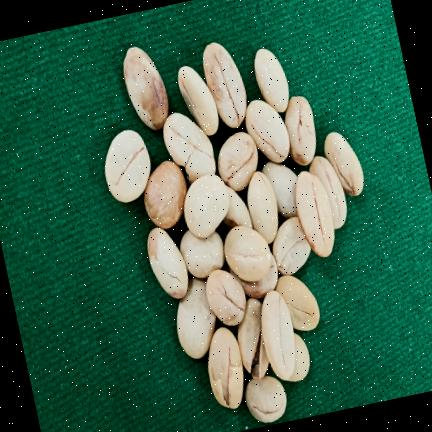parchment: (203, 42, 247, 127), (124, 47, 169, 130), (164, 113, 216, 183), (296, 171, 335, 257), (105, 130, 151, 202), (177, 277, 216, 358), (261, 290, 296, 379), (144, 161, 187, 229), (208, 328, 244, 409), (148, 227, 188, 299), (245, 100, 290, 163), (178, 66, 219, 135), (309, 156, 347, 229), (224, 226, 271, 281), (325, 132, 364, 196), (238, 298, 269, 378), (275, 275, 320, 330), (218, 132, 258, 191), (206, 269, 246, 326), (247, 171, 278, 244), (230, 252, 278, 299), (273, 217, 311, 275), (180, 230, 225, 278), (255, 49, 289, 112), (285, 96, 316, 165), (262, 161, 298, 219), (245, 375, 287, 422), (223, 186, 252, 229), (287, 333, 310, 381)
